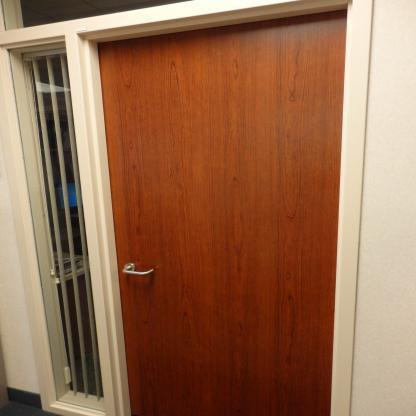door: (119, 47, 329, 415)
lever: (124, 258, 155, 286)
